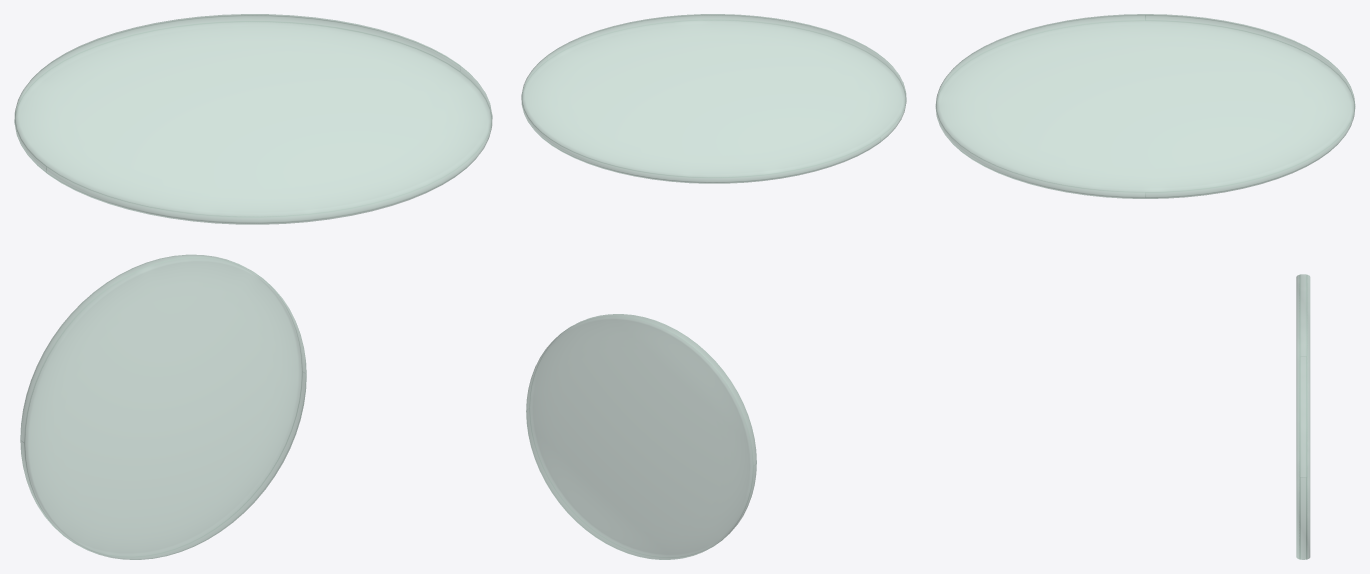
File: C.Awakening.backplates.glb
The picture shows the model from 3 angles, left to right: view 1: azimuth 30°, elevation 25°; view 2: azimuth 150°, elevation 25°; view 3: azimuth 270°, elevation 25°; orthographic projection. The views are drawn at different scales.
Visible parts, largest first — view 1: Circle_02.003, Circle_02.005; view 2: Circle_02.003, Circle_02.005; view 3: Circle_02.003, Circle_02.005.
Part boxes in pixels (x1,y1,x2,y2): Circle_02.003: [14, 14, 492, 224]; Circle_02.005: [20, 254, 306, 559]; Circle_02.003: [521, 14, 906, 183]; Circle_02.005: [526, 314, 756, 559]; Circle_02.003: [935, 14, 1355, 198]; Circle_02.005: [1296, 274, 1310, 559].
Bounding box in the file's own units: 0.6019 × 0.7045 × 0.6019.
Materials: 1 (1 with a texture image).
